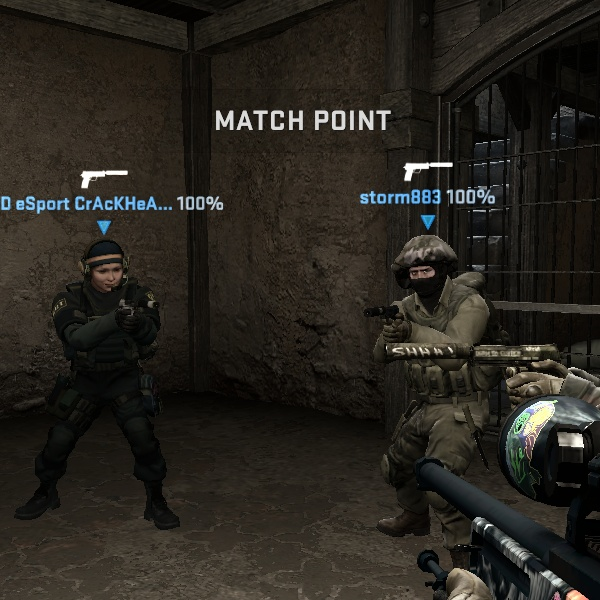ct_body: (21, 232, 190, 533), (347, 232, 509, 543)
ct_head: (381, 229, 462, 309), (75, 236, 139, 299)
